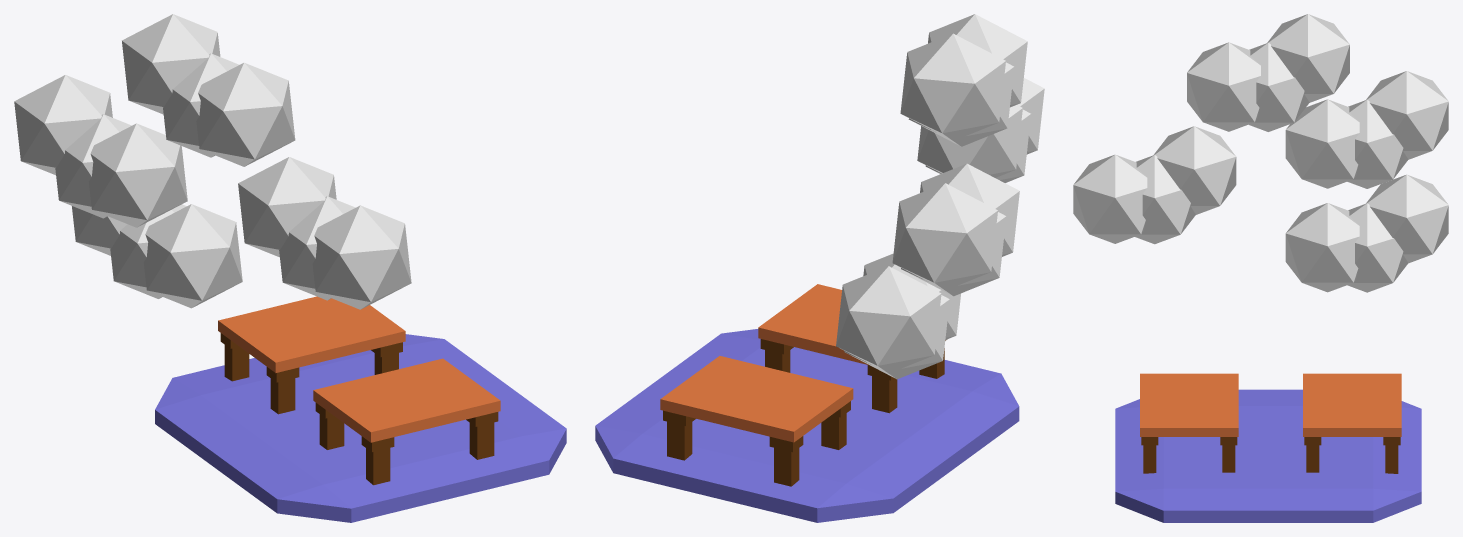
File: stage2.glb
3 renders of one model, left to right at view 1: azimuth 30°, elevation 25°; view 2: azimuth 150°, elevation 25°; view 3: azimuth 270°, elevation 25°, orthographic. The views are drawn at different scales.
Visible parts, largest first — view 1: stage; view 2: stage; view 3: stage.
Part boxes in pixels (x1,y1,x2,y2): stage: (14,14,566,522); stage: (595,14,1044,522); stage: (1073,14,1448,522).
Size of the model in its own units: 8.09 by 8.54 by 7.6.
